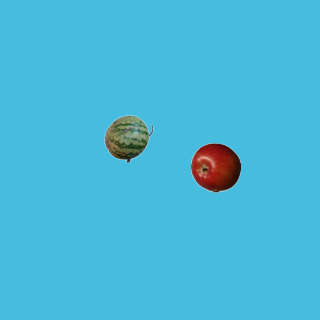Apple Braeburn: (190, 142, 240, 192)
Watermelon: (103, 113, 153, 163)
